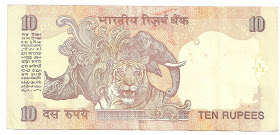ten_rupees_note: (8, 5, 278, 131)
